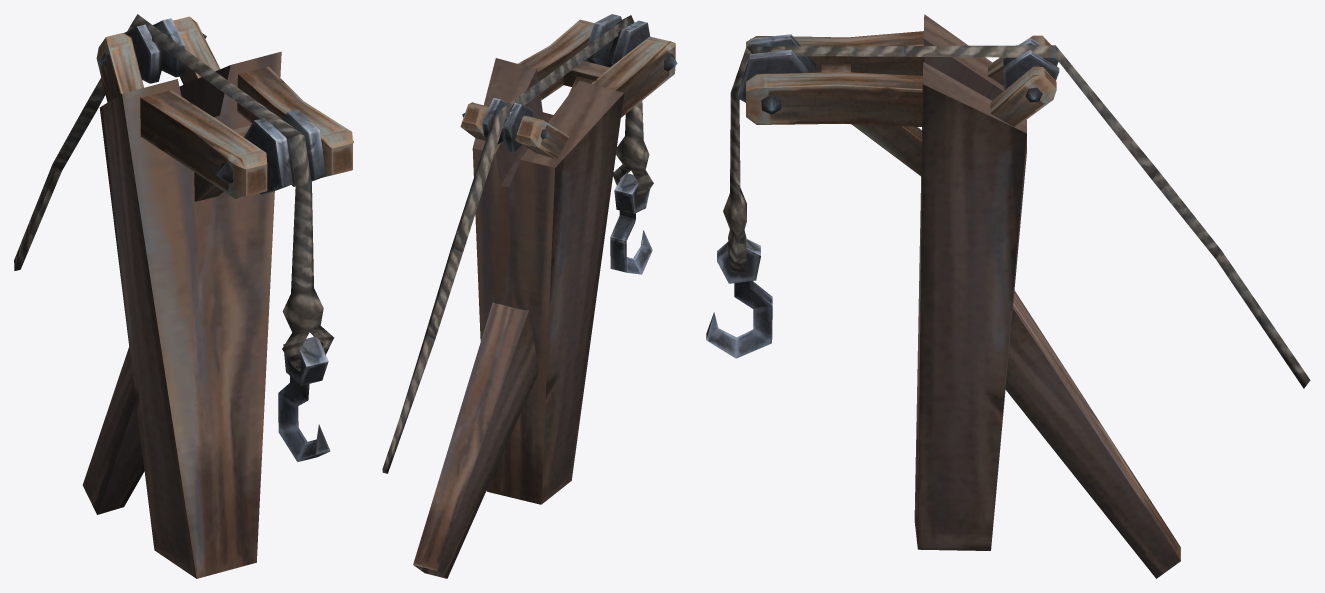
File: mine_pully_support_01.fbx
3 views of the same model, side by side, from view 1: azimuth 30°, elevation 25°; view 2: azimuth 150°, elevation 25°; view 3: azimuth 270°, elevation 25° (orthographic). The views are drawn at different scales.
Parts seen in each view (by area): view 1: mine_pully_support_01-0; view 2: mine_pully_support_01-0; view 3: mine_pully_support_01-0.
Part boxes in pixels (x1,y1,x2,y2): mine_pully_support_01-0: (14, 14, 353, 578); mine_pully_support_01-0: (382, 14, 677, 578); mine_pully_support_01-0: (706, 14, 1310, 578).
Bounding box in the file's own units: 1.9 × 6.2 × 6.57.
